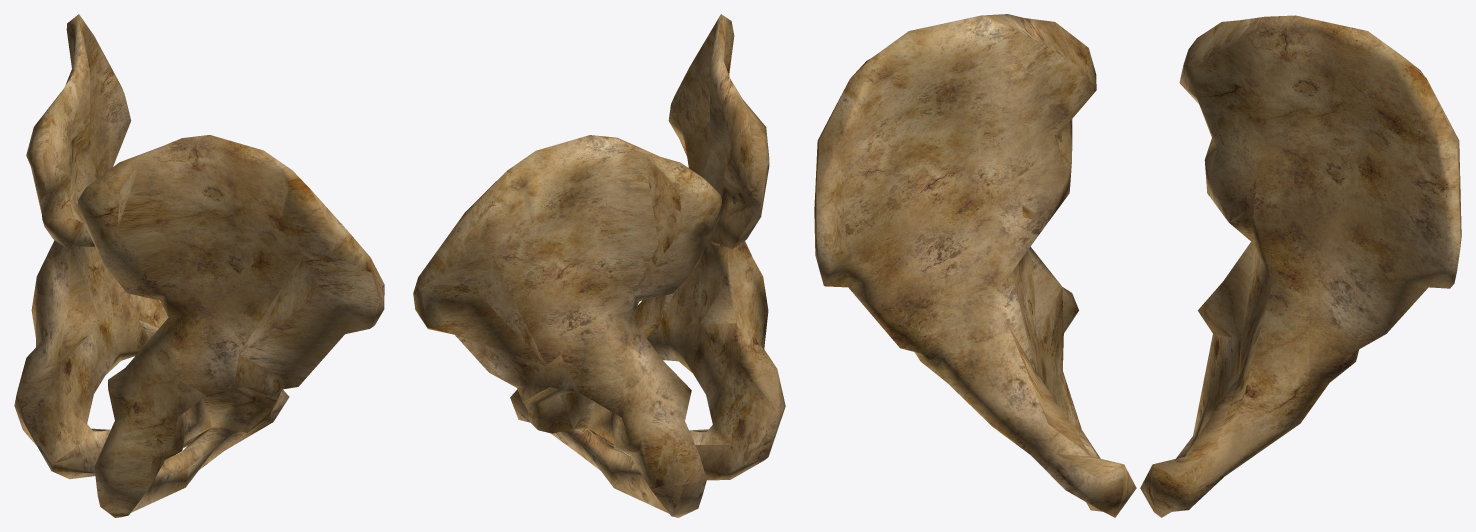
The model's file is propsPelvis.FBX.
3 views of the same model, side by side, from view 1: azimuth 30°, elevation 25°; view 2: azimuth 150°, elevation 25°; view 3: azimuth 270°, elevation 25° (orthographic). The views are drawn at different scales.
Parts seen in each view (by area): view 1: pelvis; view 2: pelvis; view 3: pelvis.
Part boxes in pixels (box(x1,y1,x2,y2)): pelvis: box(14, 14, 384, 517); pelvis: box(413, 14, 785, 517); pelvis: box(814, 14, 1461, 517).
Size of the model in its own units: 0.1375 by 0.2486 by 0.2965.
